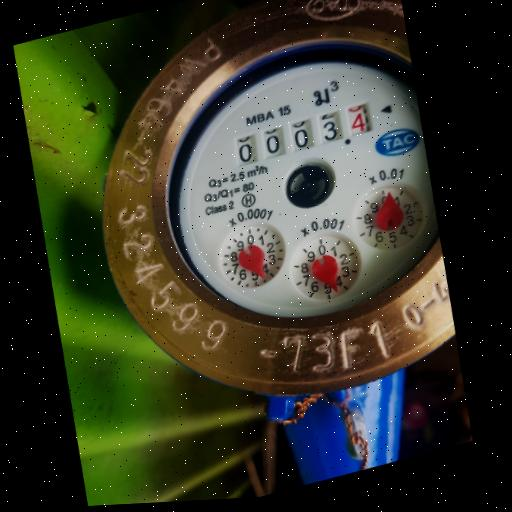0: (259, 124, 287, 160), (287, 118, 314, 152), (232, 134, 258, 166)
3: (315, 111, 343, 144)
4: (343, 103, 372, 137)
border_water_meter_number: (227, 98, 377, 171)
